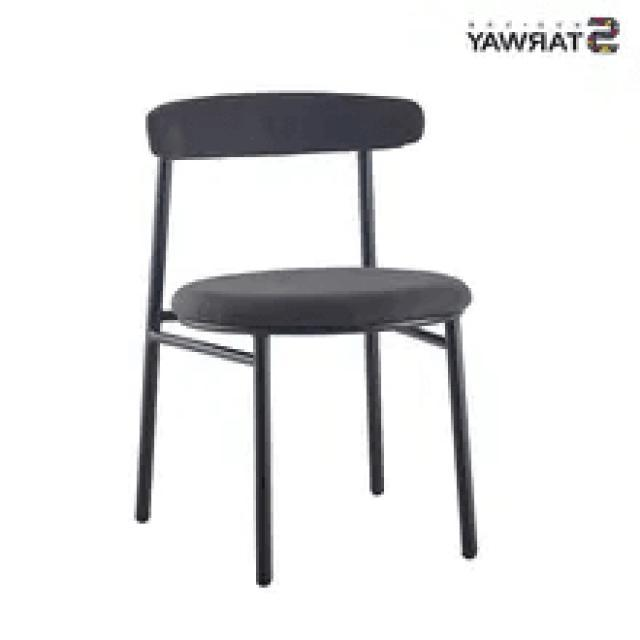chair: (132, 83, 485, 588), (143, 88, 472, 336)
